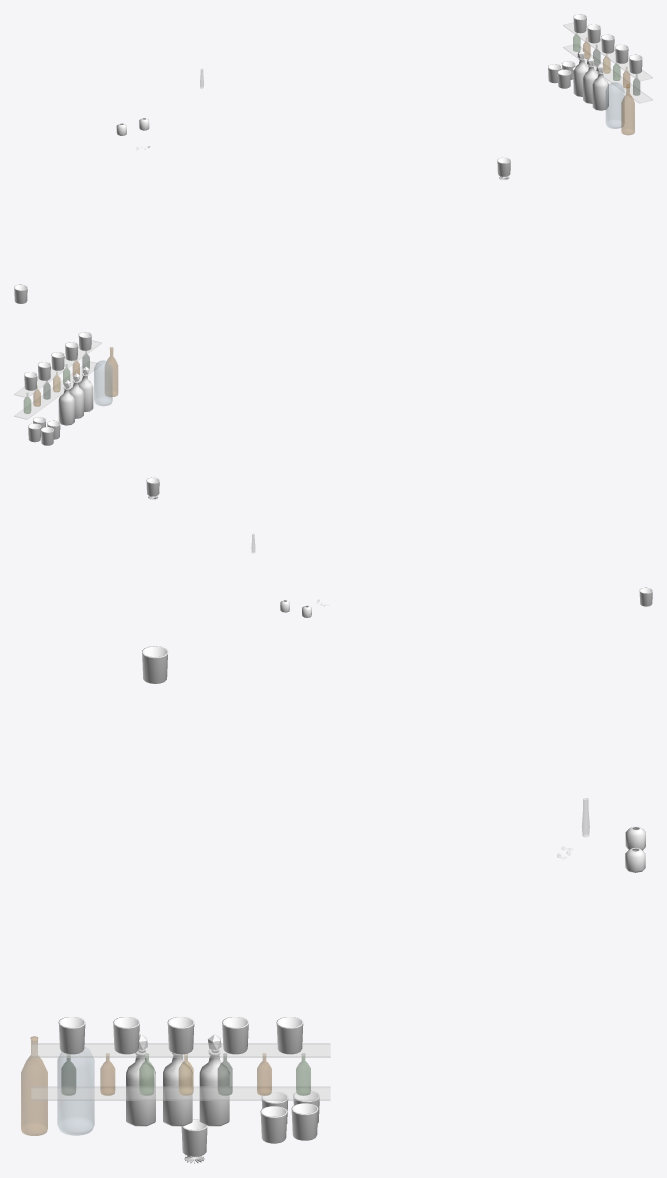
Rendered from railcar-glass.glb.
3 renders of one model, top to bottom at view 1: azimuth 30°, elevation 25°; view 2: azimuth 150°, elevation 25°; view 3: azimuth 270°, elevation 25°, orthographic. The views are drawn at different scales.
Parts seen in each view (by area): view 1: backbar glass shelf 0, soda siphon body, backbar glass shelf 1, whisky bottle, decanter 2; view 2: backbar glass shelf 0, soda siphon body, backbar glass shelf 1, decanter 0, whisky bottle; view 3: backbar glass shelf 0, backbar glass shelf 1, soda siphon body, whisky bottle, decanter 0, decanter 2, decanter 1, backbar glass 0, backbar glass 4, backbar glass 2, salver tumbler 3, salver tumbler 2 (+4 smaller).
Part boxes in pixels (bbox=[...]): backbar glass shelf 0: bbox=[563, 44, 652, 103]; soda siphon body: bbox=[606, 82, 624, 128]; backbar glass shelf 1: bbox=[563, 22, 652, 81]; whisky bottle: bbox=[621, 84, 634, 134]; decanter 2: bbox=[592, 71, 608, 110]; backbar glass shelf 0: bbox=[14, 361, 101, 419]; soda siphon body: bbox=[94, 360, 112, 405]; backbar glass shelf 1: bbox=[14, 340, 101, 397]; decanter 0: bbox=[58, 387, 74, 425]; whisky bottle: bbox=[105, 347, 117, 396]; backbar glass shelf 0: bbox=[31, 1086, 330, 1100]; backbar glass shelf 1: bbox=[31, 1043, 330, 1057]; soda siphon body: bbox=[57, 1046, 94, 1135]; whisky bottle: bbox=[21, 1036, 47, 1135]; decanter 0: bbox=[199, 1049, 229, 1126]; decanter 2: bbox=[126, 1049, 155, 1126]; decanter 1: bbox=[163, 1053, 192, 1126]; backbar glass 0: bbox=[276, 1017, 303, 1054]; backbar glass 4: bbox=[58, 1017, 85, 1054]; backbar glass 2: bbox=[167, 1017, 194, 1054]; salver tumbler 3: bbox=[260, 1106, 287, 1143]; salver tumbler 2: bbox=[291, 1103, 318, 1140].
Size of the model in its own units: 40.31 by 7.55 by 18.37.
